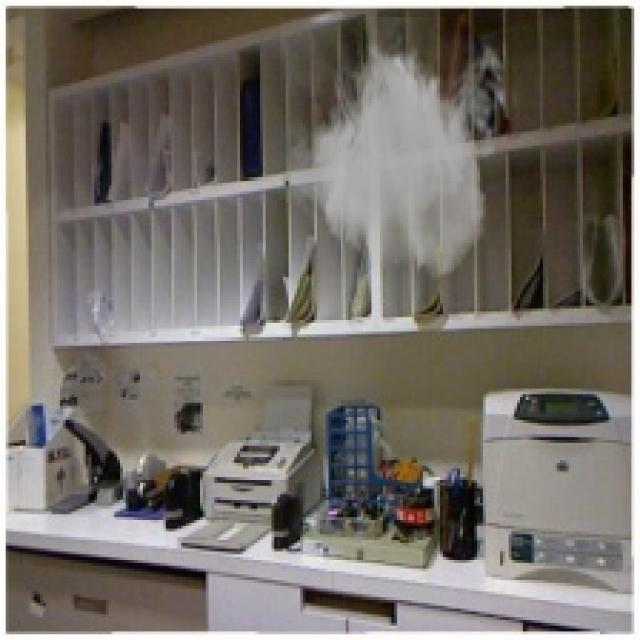Smoke: (279, 17, 512, 283)
